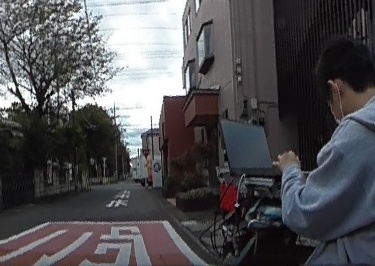person: (294, 33, 375, 266)
